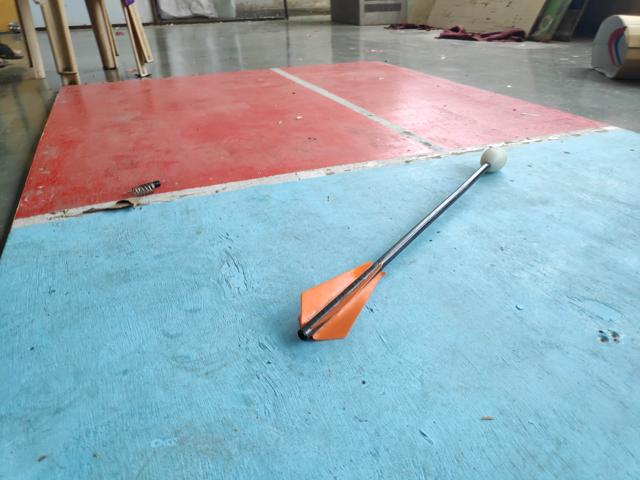Head: (478, 145, 509, 172)
Tail: (294, 257, 385, 345)
